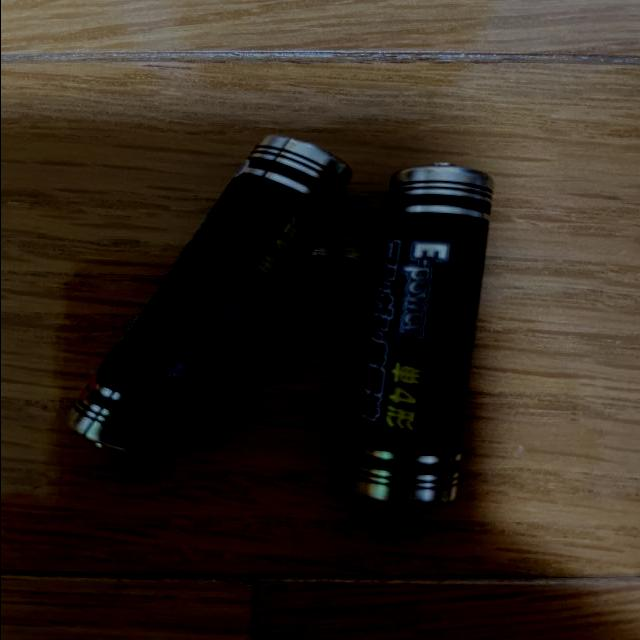AA: (54, 126, 354, 464), (334, 155, 503, 518)
